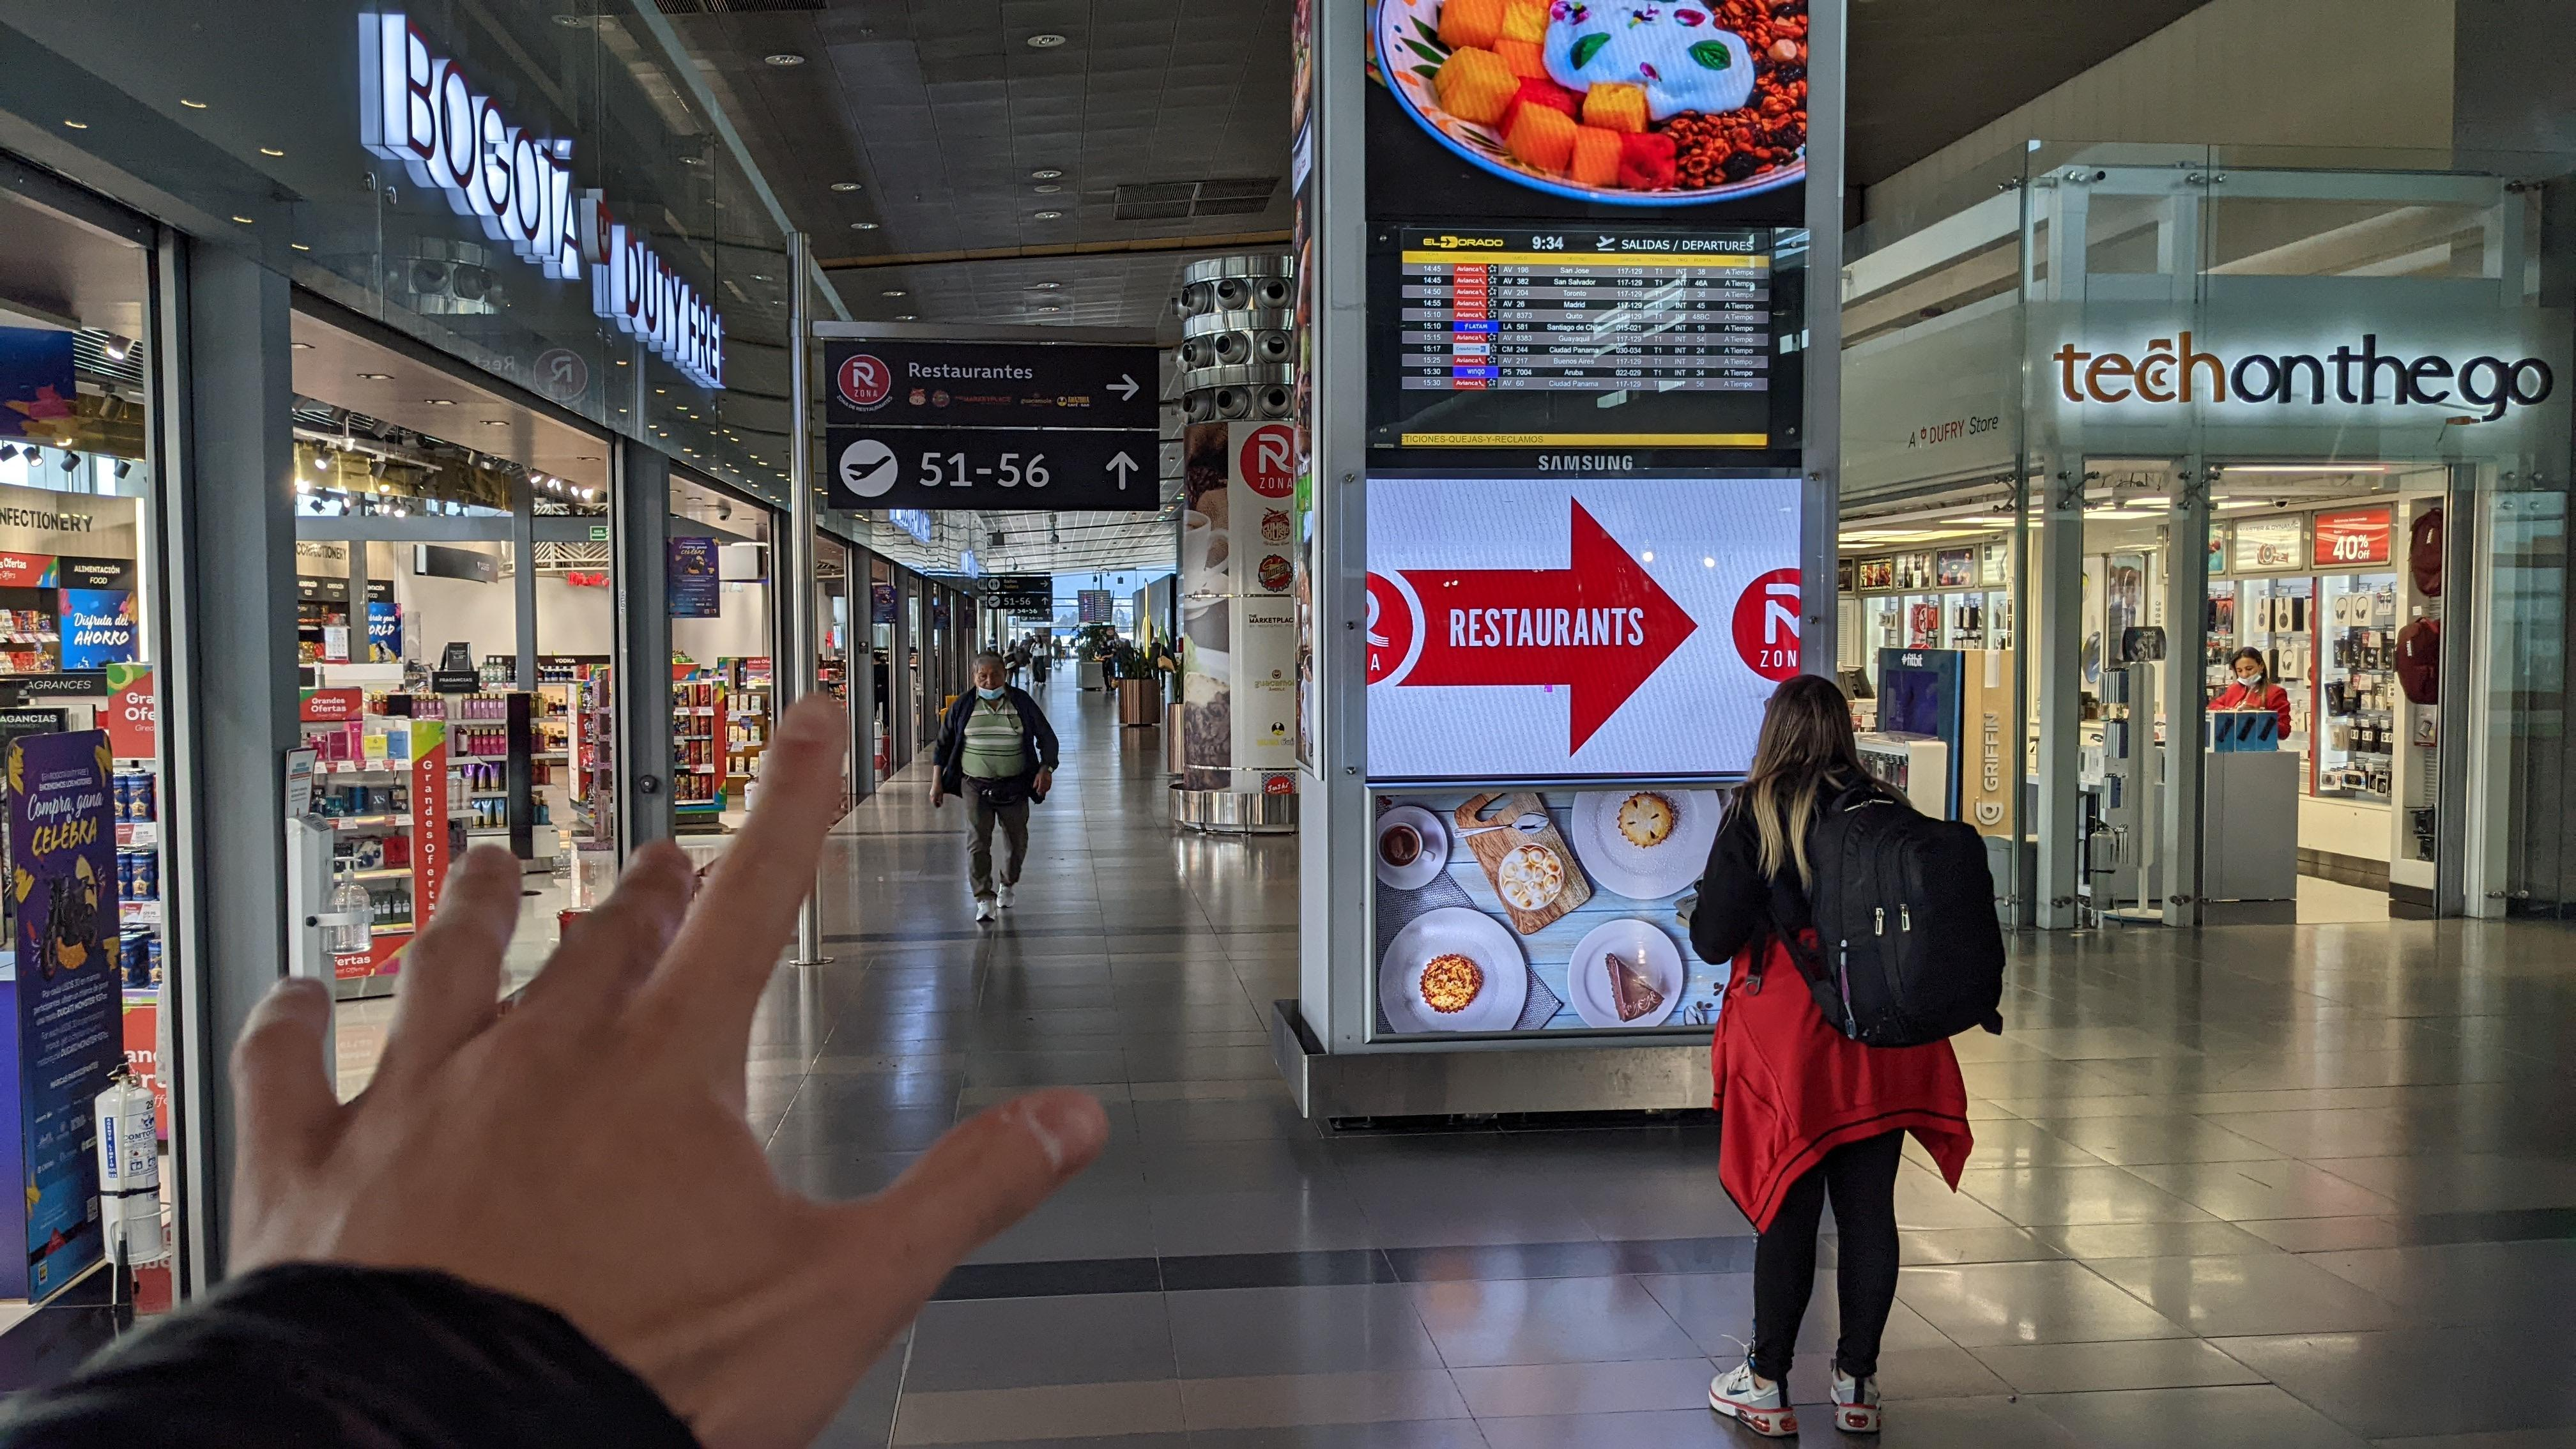airplane symbol: (844, 455, 893, 483), (989, 598, 1000, 605)
bathrooms: (991, 580, 998, 589)
right arrow: (1104, 372, 1143, 403), (1040, 580, 1049, 587)
up arrow: (1106, 449, 1143, 495), (1040, 596, 1049, 605), (1044, 607, 1051, 616)
